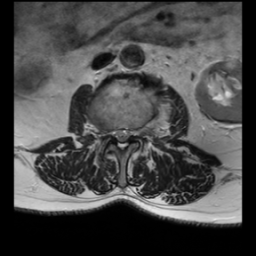CCS_normal: (118, 120, 125, 155)
LFS_stenosis: (132, 120, 139, 142)
LLS_stenosis: (125, 122, 132, 144)
RFS_stenosis: (105, 122, 112, 144)
RLS_stenosis: (111, 120, 118, 145)
